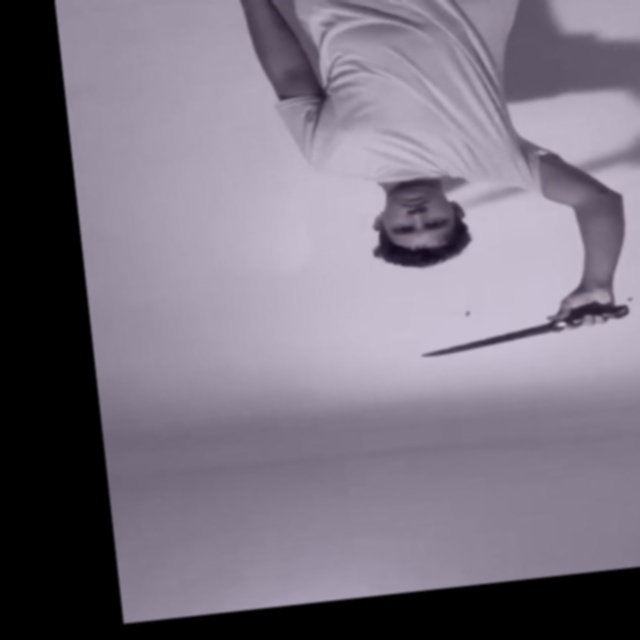Sharp-Object: (419, 323, 558, 359)
